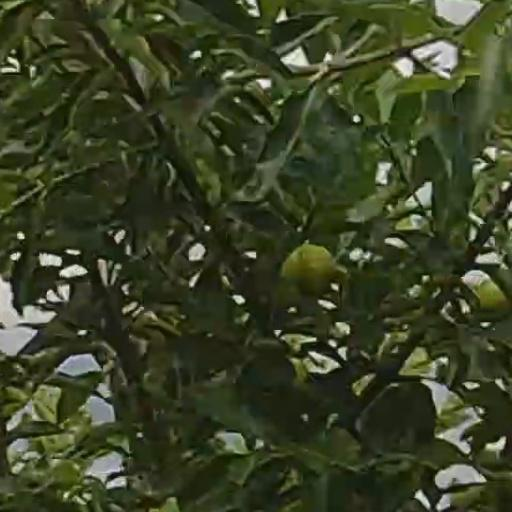acerola: (286, 245, 332, 297)
